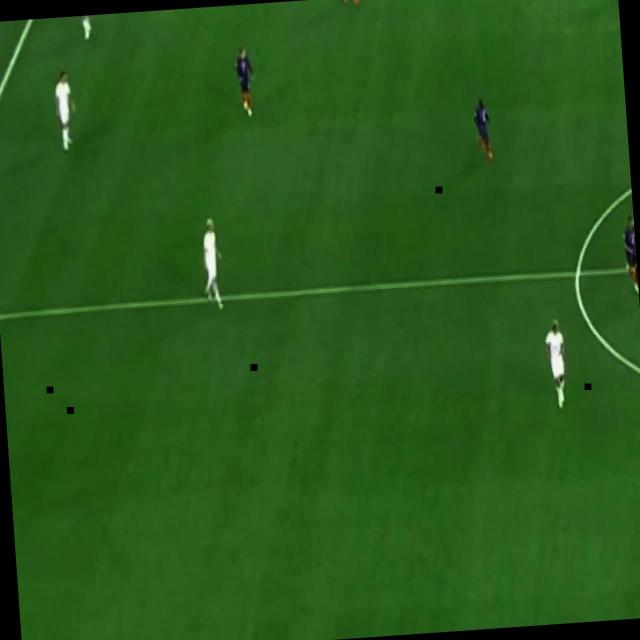player-white: (196, 215, 226, 309), (542, 316, 570, 411), (52, 69, 80, 155), (232, 44, 258, 120), (619, 218, 639, 299), (471, 93, 493, 163), (74, 15, 96, 43), (340, 0, 360, 9), (600, 0, 618, 6)
